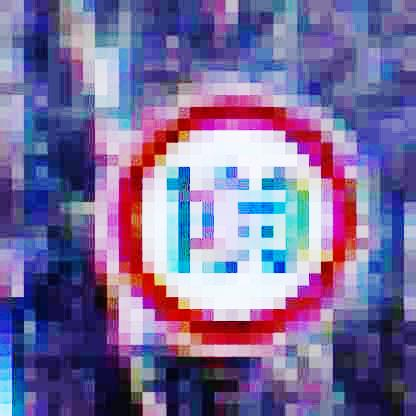Speed Limit -100-: (114, 90, 361, 344)
